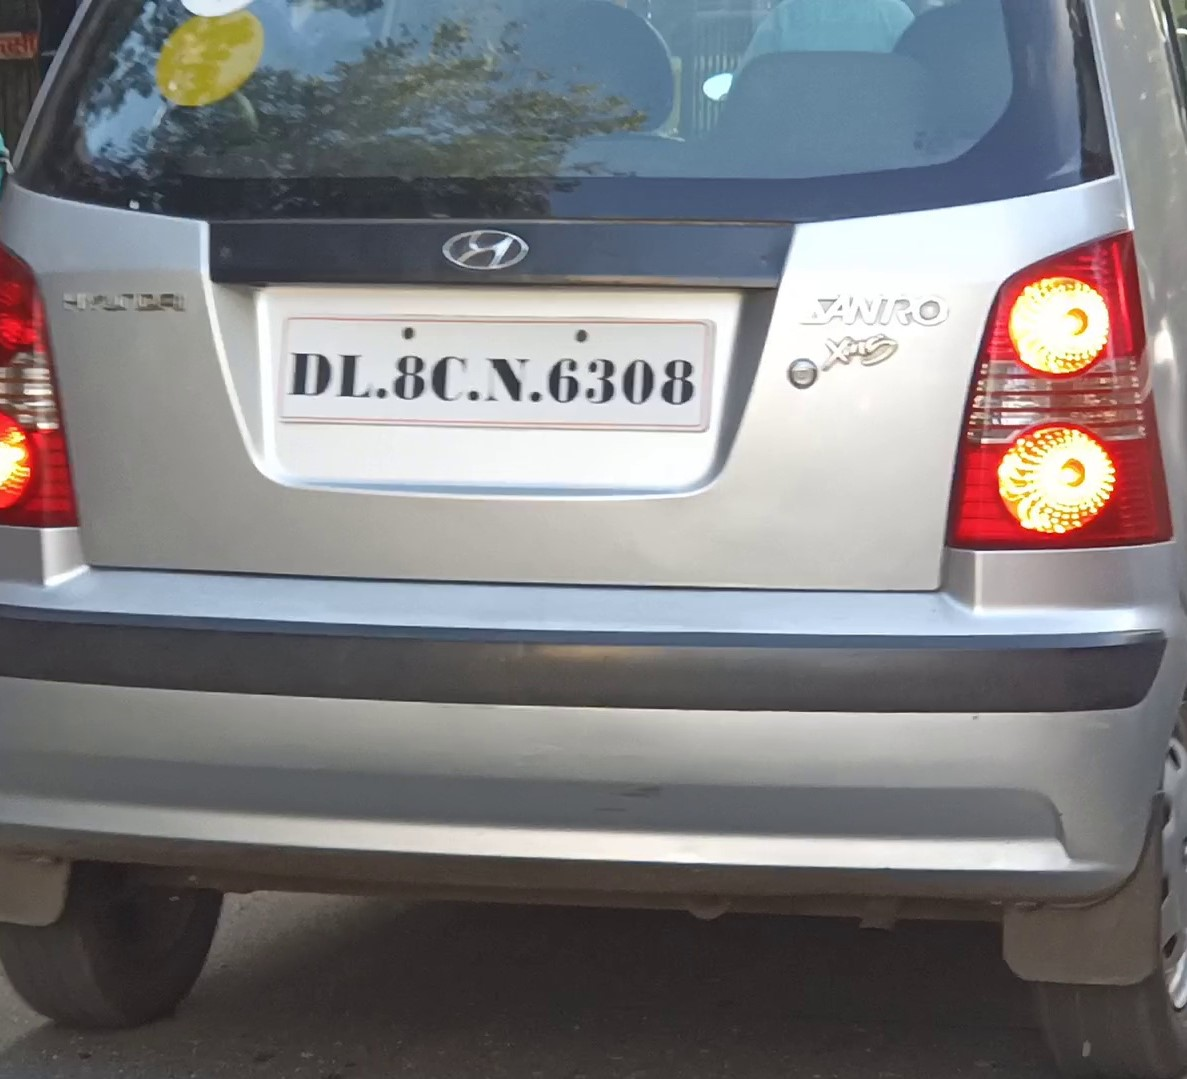DL8CN6308: (283, 316, 711, 424)
